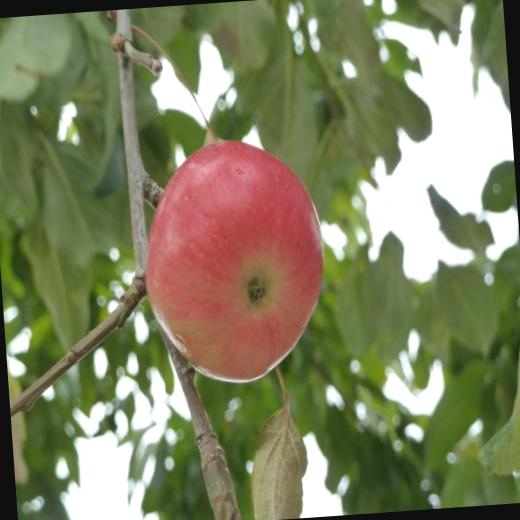Apple: (135, 124, 333, 401)
